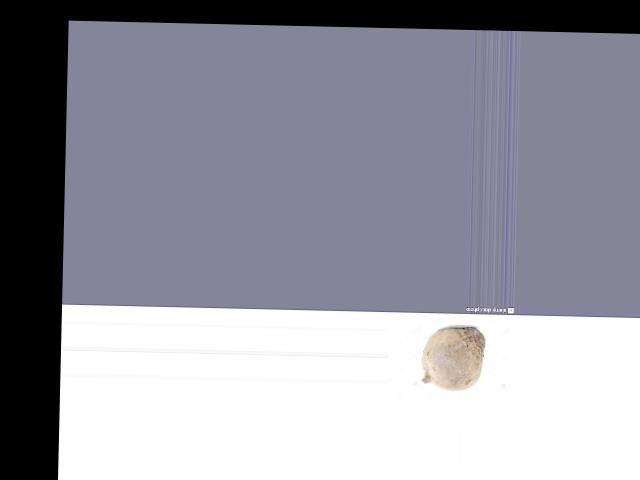beet: (420, 325, 484, 390)
